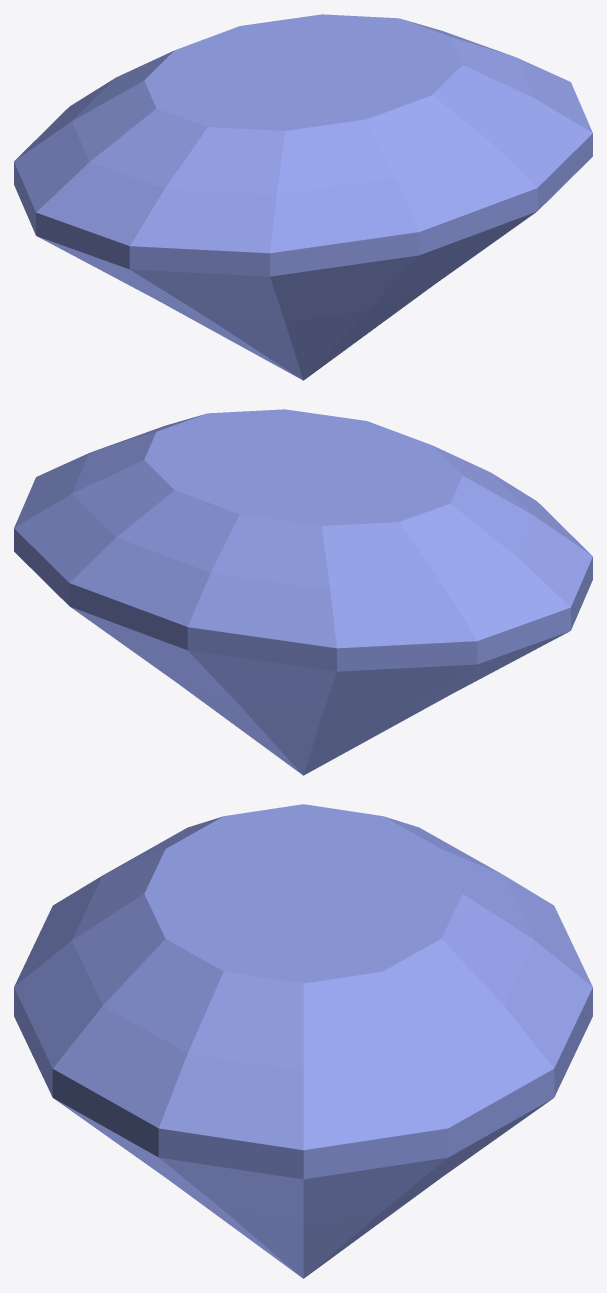
The model's file is iolite-glass.glb.
3 renders of one model, top to bottom at view 1: azimuth 30°, elevation 25°; view 2: azimuth 150°, elevation 25°; view 3: azimuth 270°, elevation 25°, orthographic. The views are drawn at different scales.
Parts seen in each view (by area): view 1: Iolite; view 2: Iolite; view 3: Iolite.
Part boxes in pixels (left/top/right/bottom): Iolite: left=14, top=14, right=592, bottom=380; Iolite: left=14, top=409, right=592, bottom=775; Iolite: left=14, top=804, right=592, bottom=1278.
Bounding box in the file's own units: 2.4 × 1.32 × 1.8.
